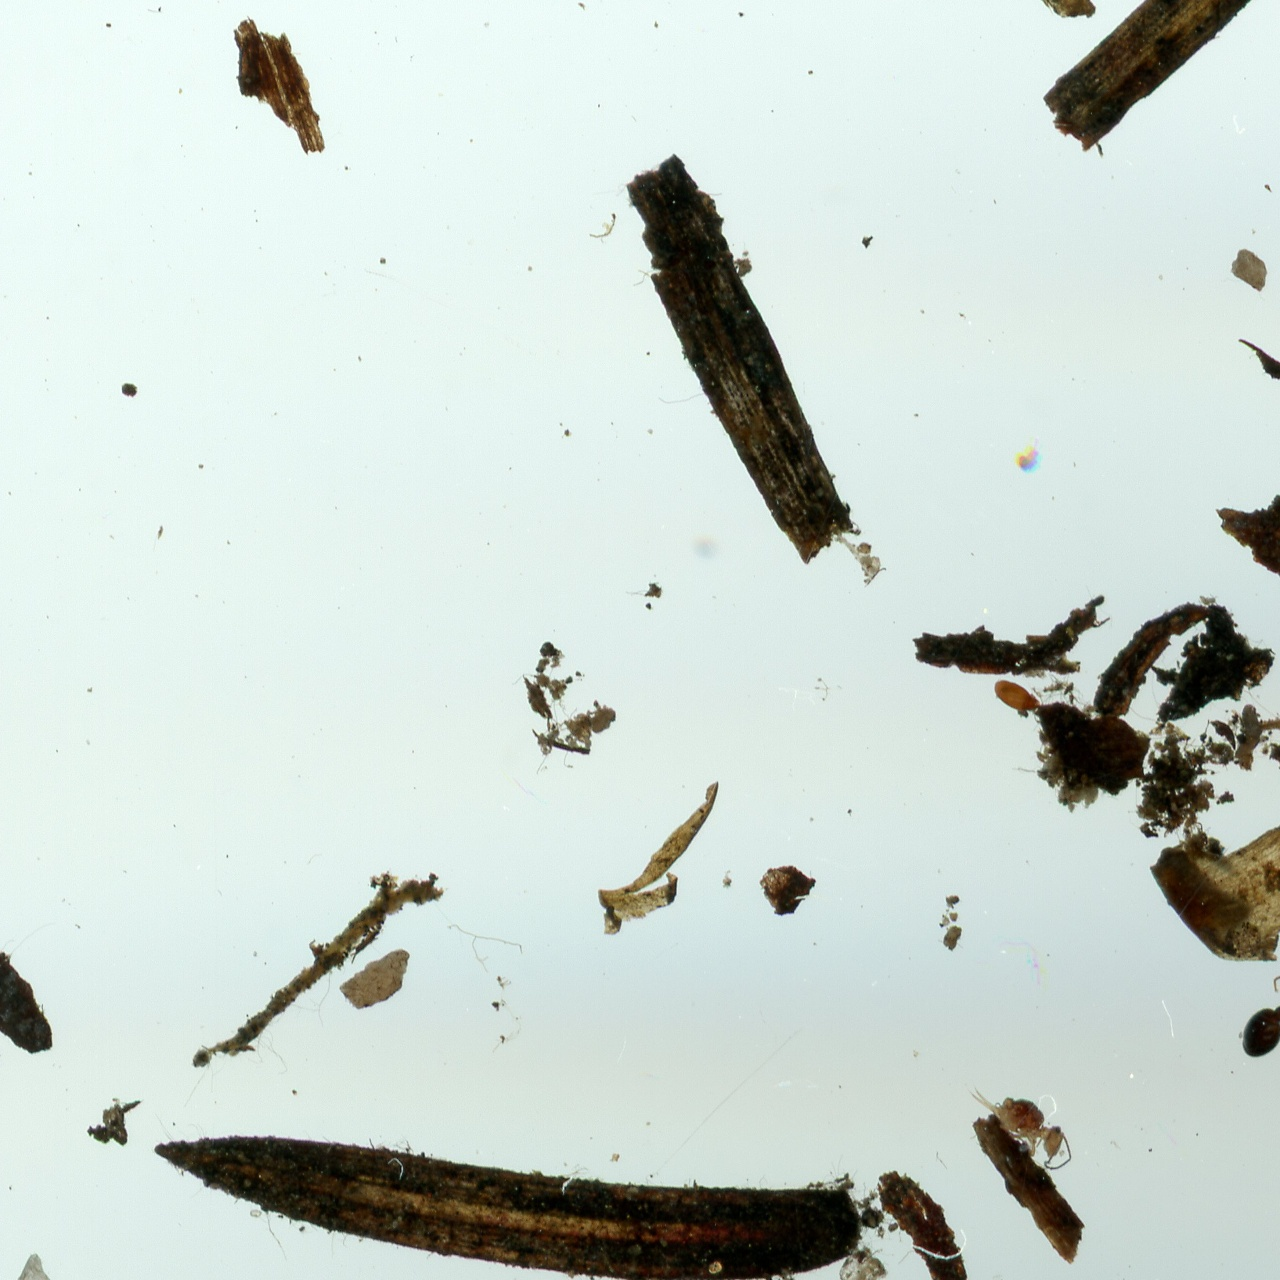arthropod: (961, 1062, 1088, 1184), (1240, 956, 1280, 1061)
